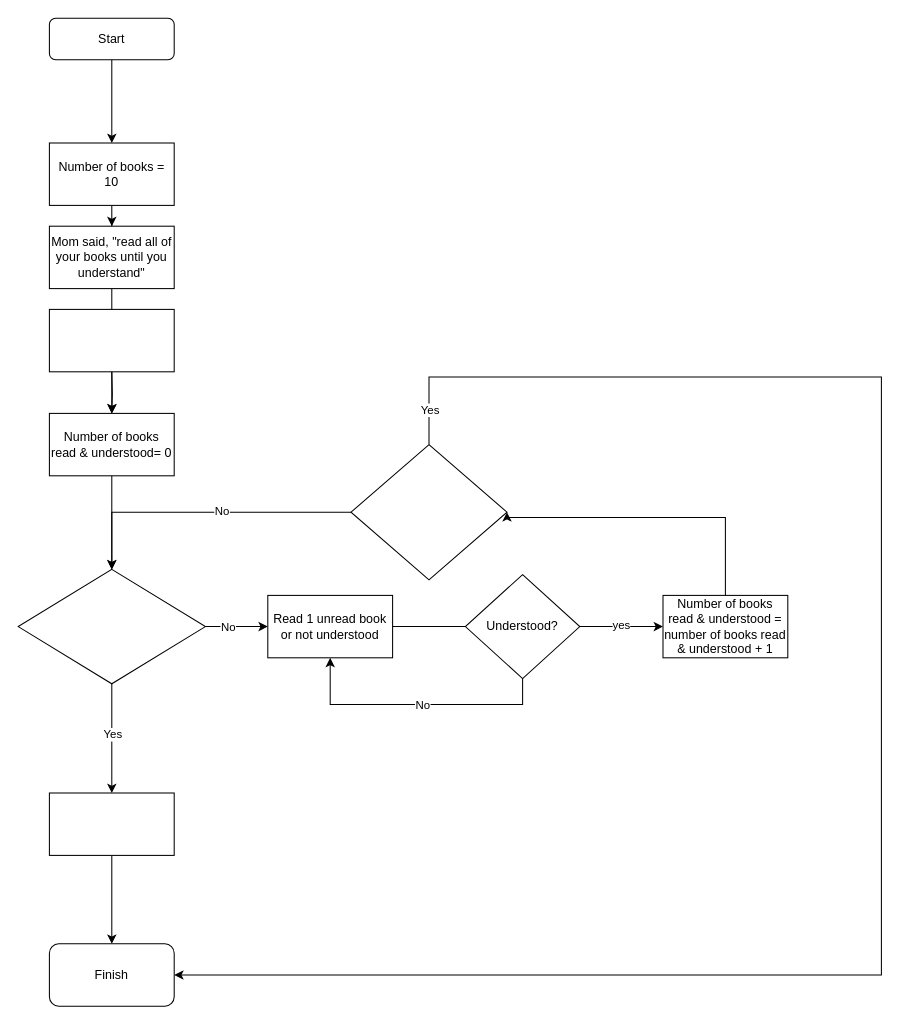
This 908x1024 diagram has some shape labels left out. Each missing label, with the centre of its shape:
"count total reads = 0" goes at point 111,340.
"Number of books = number of books read?" goes at point 111,626.
"Report to mom that all the books have been read" goes at point 111,823.
"total reads < number of books * 2" goes at point 428,512.
